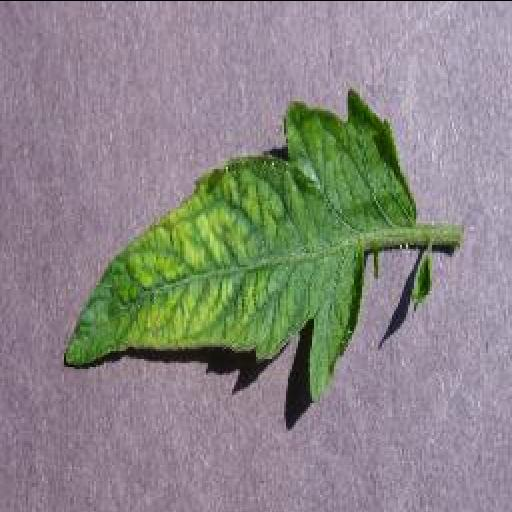disease_tomato: (59, 86, 417, 404)
